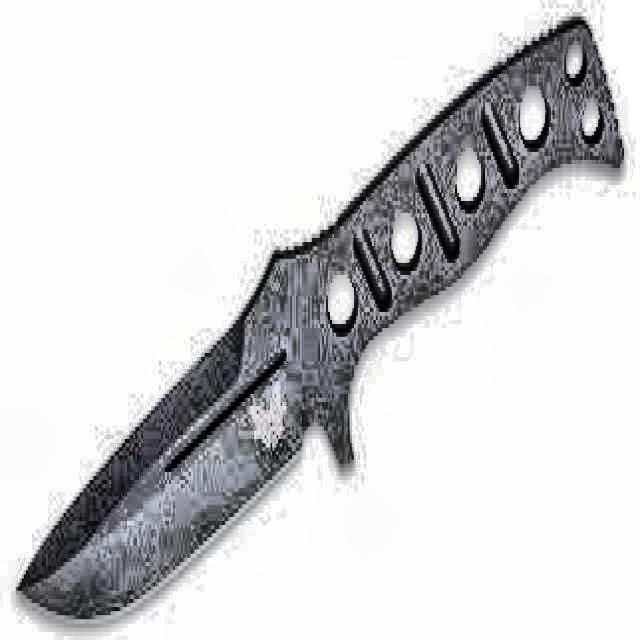knife: (6, 0, 632, 615)
